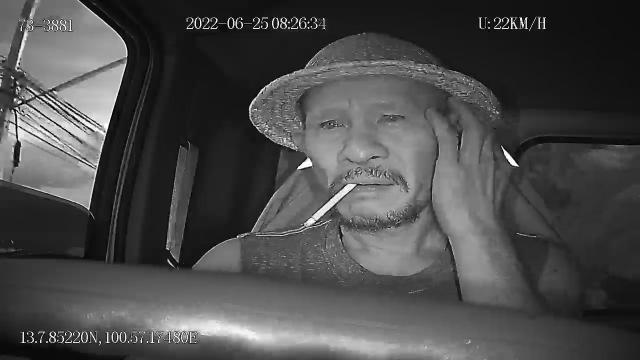SafeDriving: (370, 102, 415, 131), (314, 112, 352, 134)
Smoking: (304, 180, 356, 228)
